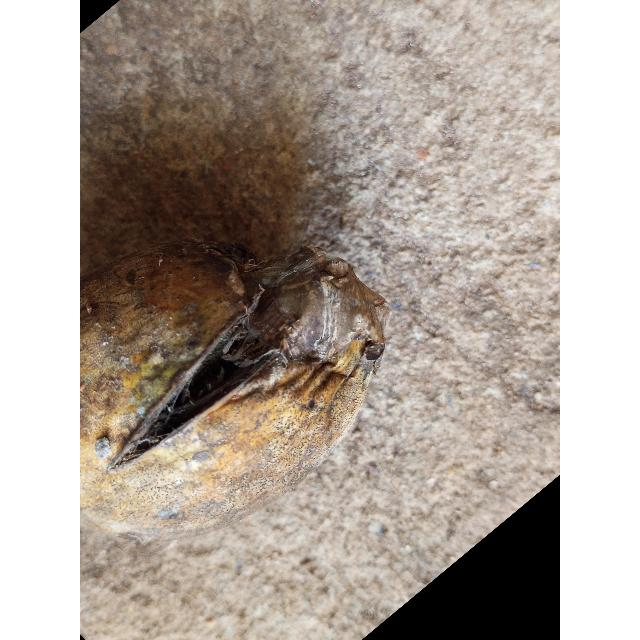damaged: (80, 240, 390, 526)
